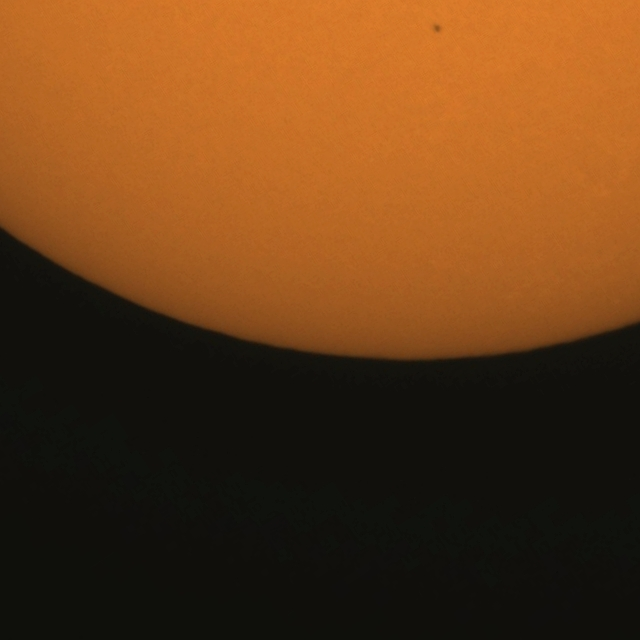sunspot: (431, 22, 443, 35)
